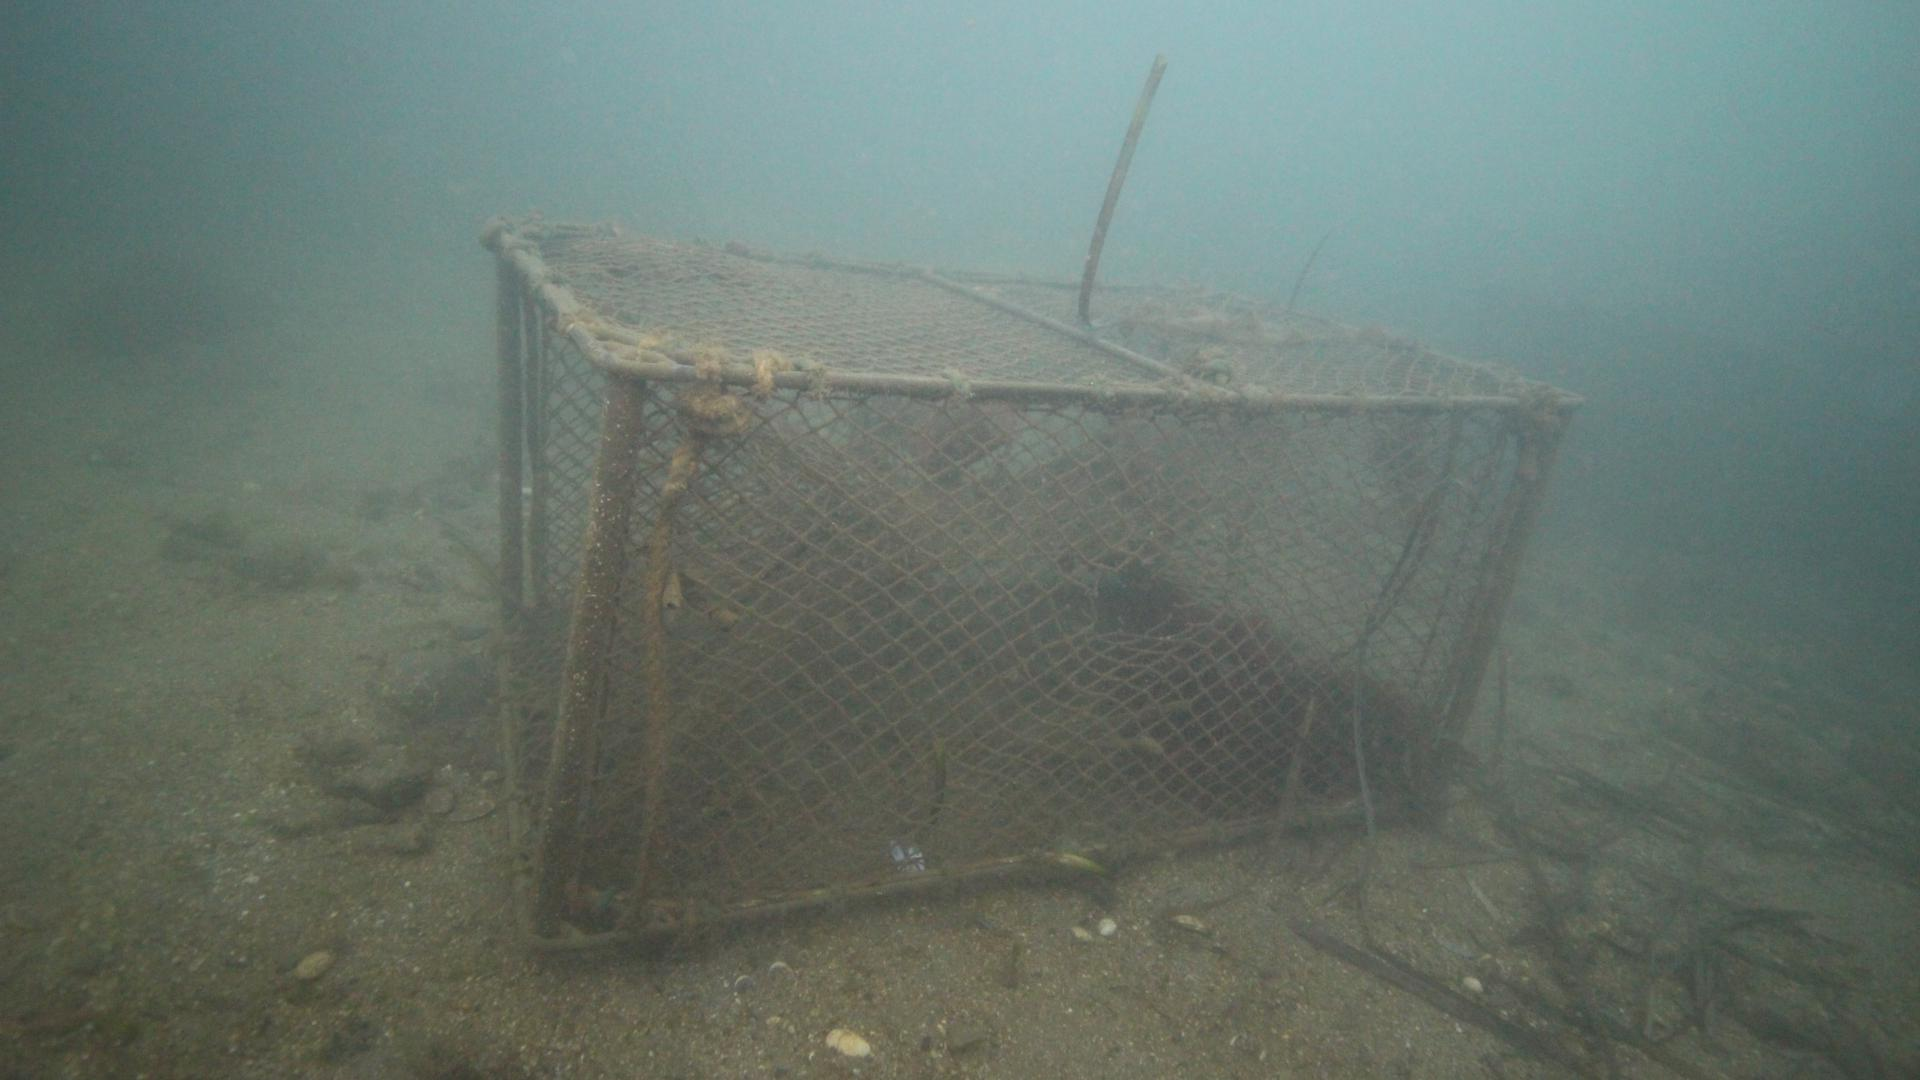rectangular fish trap: (477, 216, 1585, 955)
